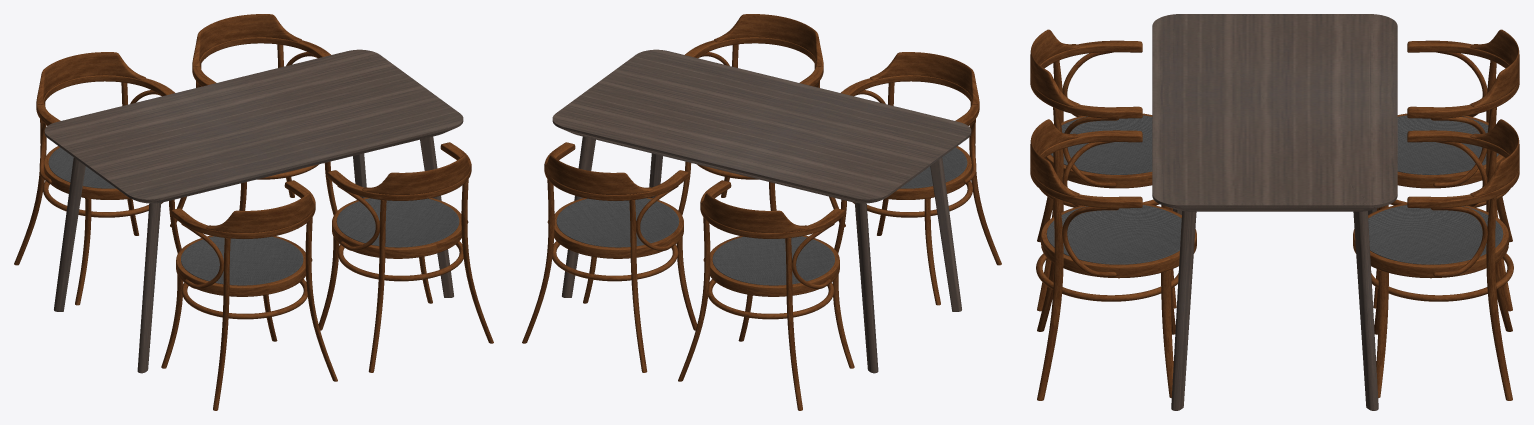
Rendered from DiningSet.glb.
The picture shows the model from 3 angles, left to right: view 1: azimuth 30°, elevation 25°; view 2: azimuth 150°, elevation 25°; view 3: azimuth 270°, elevation 25°; orthographic projection. The views are drawn at different scales.
Parts seen in each view (by area): view 1: Chair_0, Top_2, Legs_1; view 2: Chair_0, Top_2, Legs_1; view 3: Chair_0, Top_2, Legs_1.
Boxes of the visible parts, <box> form: Chair_0: <box>14,14,493,410</box>; Top_2: <box>44,49,463,203</box>; Legs_1: <box>54,136,453,373</box>; Chair_0: <box>522,14,1001,410</box>; Top_2: <box>552,49,971,203</box>; Legs_1: <box>562,136,961,373</box>; Chair_0: <box>1030,29,1519,400</box>; Top_2: <box>1152,14,1397,211</box>; Legs_1: <box>1171,208,1378,410</box>.
Size of the model in its own units: 1.44 by 0.79 by 1.56.
3 materials, 3 textured.
